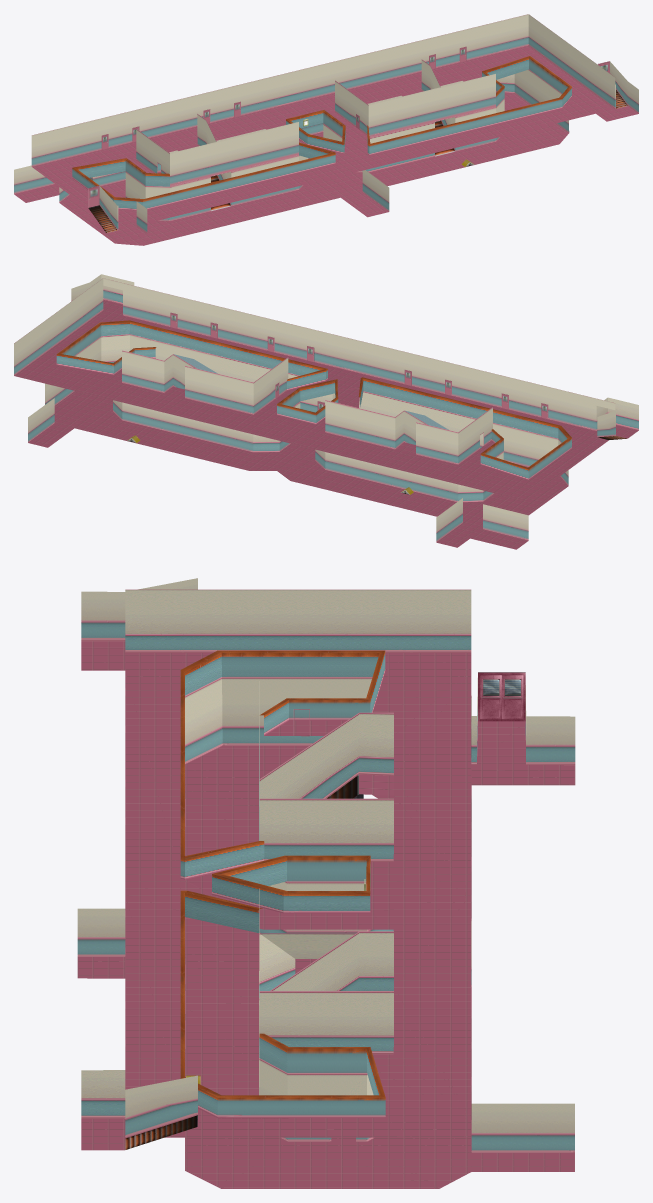
The model's file is 2ndFlour.glb.
3 views of the same model, one above another, from view 1: azimuth 30°, elevation 25°; view 2: azimuth 150°, elevation 25°; view 3: azimuth 270°, elevation 25° (orthographic). The views are drawn at different scales.
Parts seen in each view (by area): view 1: 2ndFlour; view 2: 2ndFlour; view 3: 2ndFlour.
Boxes of the visible parts, x1,y1,x2,y2 form: 2ndFlour: (14,14,638,245); 2ndFlour: (14,274,638,549); 2ndFlour: (77,578,575,1188).
Size of the model in its own units: 13371 by 1958 by 5520.
11 materials, 11 textured.
